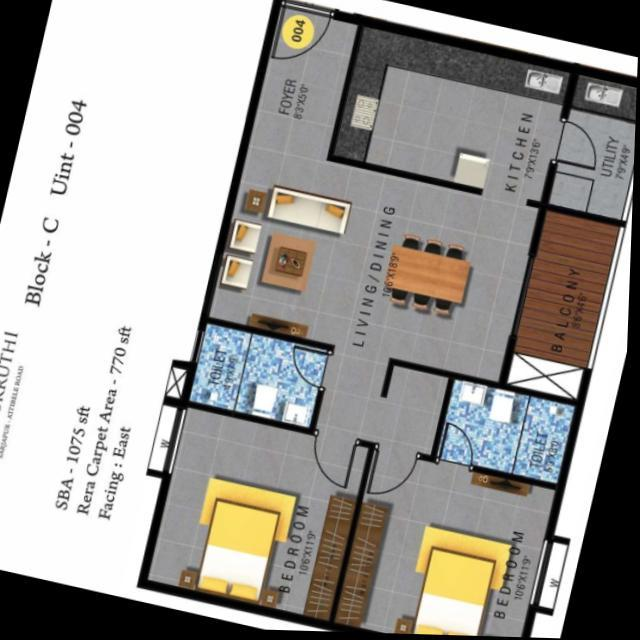Bedroom: (141, 401, 375, 632)
Bedroom with Toilet: (337, 371, 584, 638)
Dining: (373, 220, 493, 334)
Enterance-Foyer: (263, 0, 339, 72)
Kitchen: (327, 17, 577, 210)
Living: (205, 137, 380, 350)
Toilet: (434, 371, 584, 490), (186, 317, 335, 436)
Utility: (539, 61, 638, 228)
